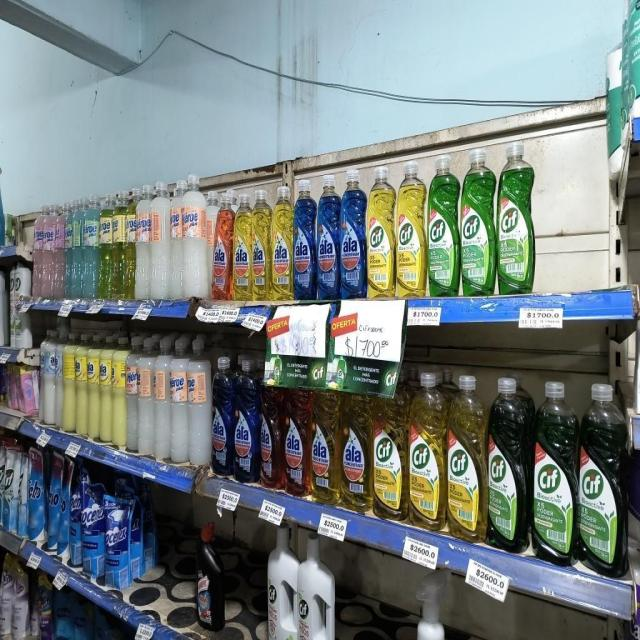ala_conc_amarillo: (341, 391, 371, 511), (310, 387, 339, 504), (271, 184, 292, 301), (232, 190, 252, 302), (252, 188, 270, 300)
ala_conc_azul: (340, 166, 366, 300), (234, 356, 258, 484), (316, 172, 338, 300), (211, 353, 233, 477), (293, 178, 315, 300)
ala_conc_rojo: (283, 386, 308, 497), (259, 378, 282, 490), (212, 188, 232, 300)
ala_crem_amarillo: (112, 336, 126, 449), (100, 335, 112, 444), (88, 335, 100, 441), (76, 333, 88, 438), (64, 332, 76, 433)
ala_crem_blanco: (42, 330, 55, 427), (56, 331, 63, 430)
cif_conc_bot_amarilla: (446, 372, 486, 539), (408, 369, 445, 528), (372, 377, 407, 520), (396, 156, 426, 297), (366, 161, 394, 297)
cif_conc_botella_verde: (578, 382, 624, 575), (531, 380, 575, 564), (487, 375, 528, 551), (498, 138, 534, 295), (460, 145, 496, 297), (428, 151, 458, 297), (624, 0, 640, 146)
